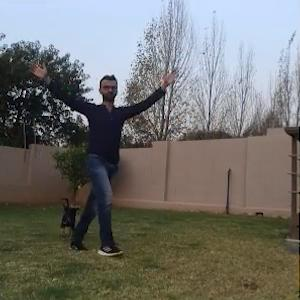takeoff: (9, 76, 136, 252)
